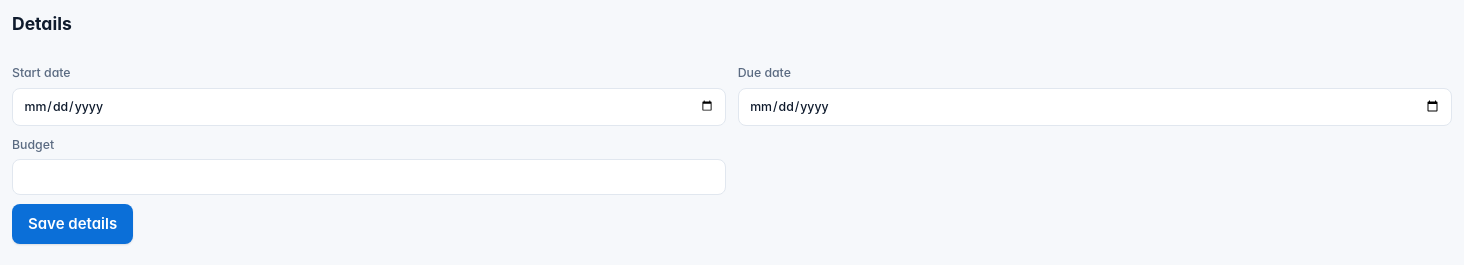
Scenario: custom fields › shows nothing without fields, and refusals
Type "12" into the number field labelled "Budget" at coordinates (369, 177), box x1=12 y1=159 x2=726 y2=195
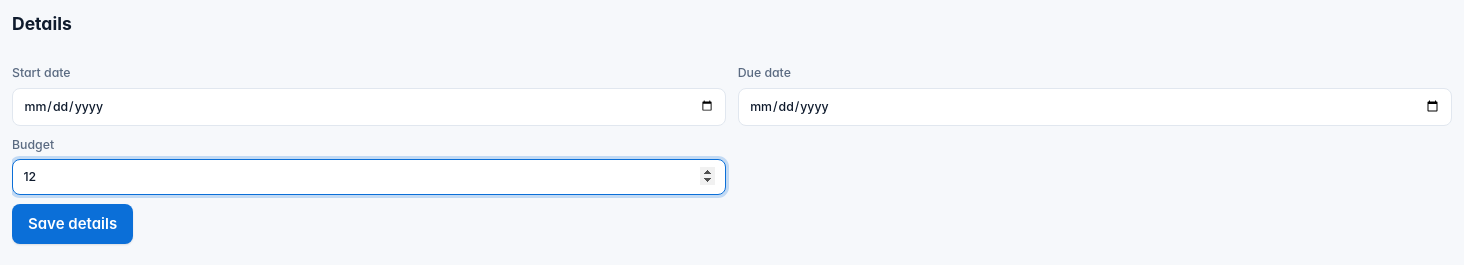
Click the button "Save details" at coordinates (73, 224), box x1=12 y1=204 x2=133 y2=244
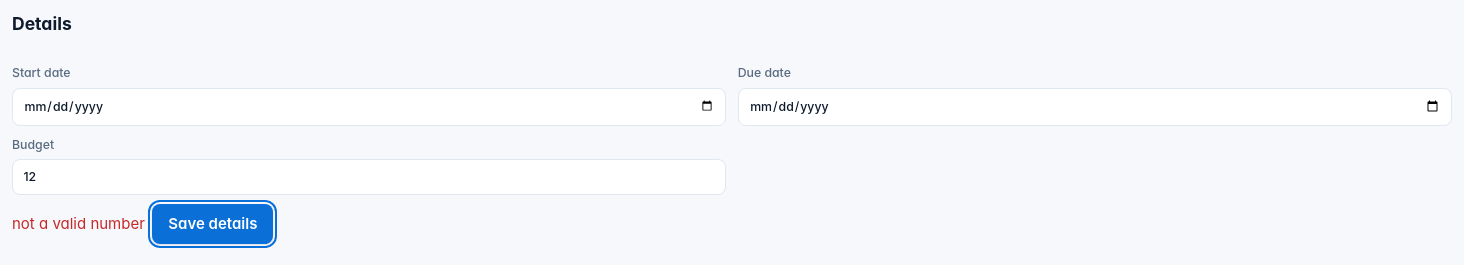
expect the message reads "not a valid number": met, box x1=12 y1=214 x2=145 y2=234
